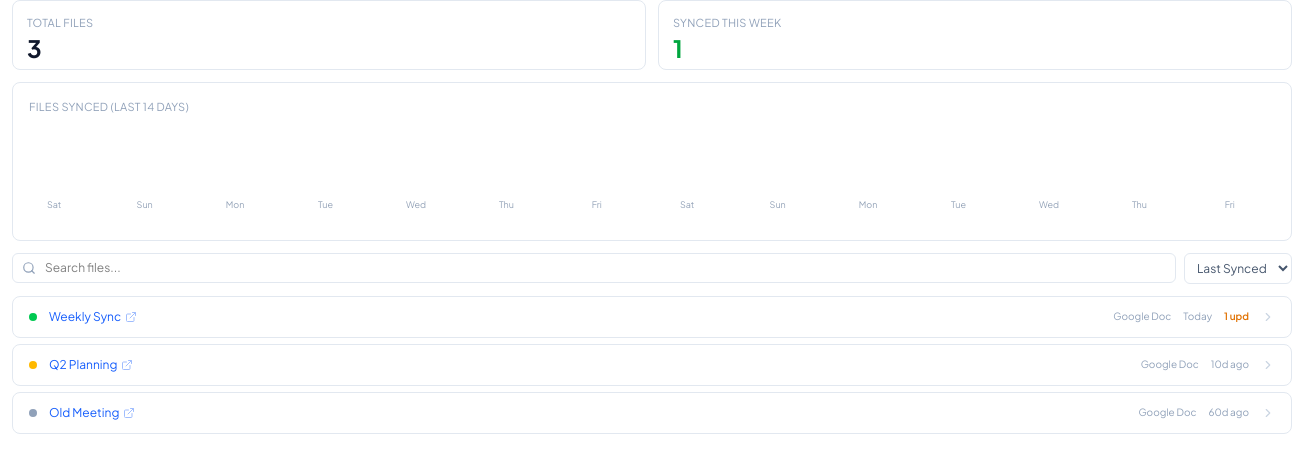
Test: FileExplorer › filters files by search
Type "weekly" into the field with placeholder "Search files...". click: (594, 268)
box: [12,253,1176,283]
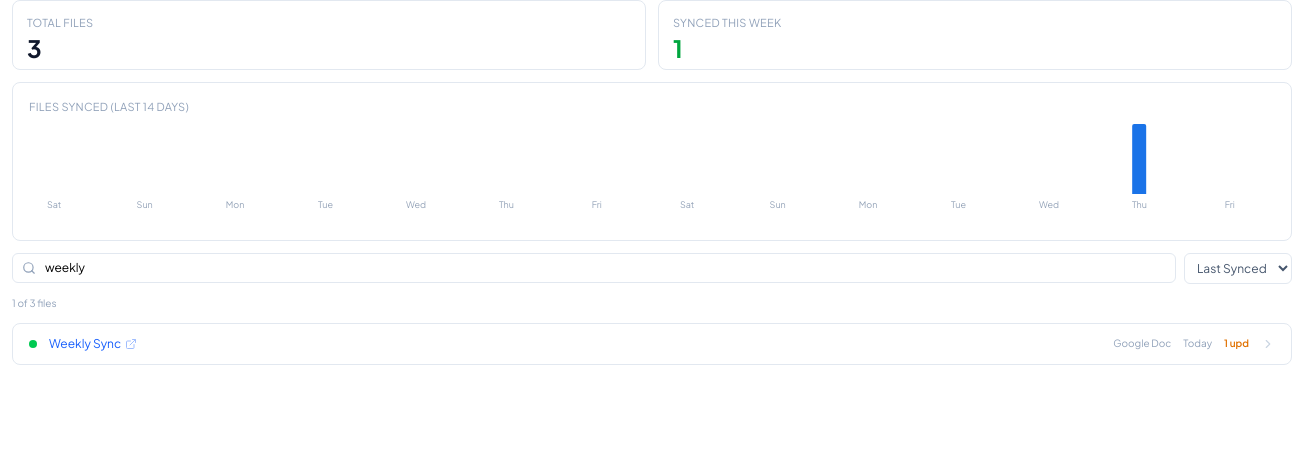
Expected: the link "Weekly Sync" is shown, [49,336,137,350]
Expected: the link "Q2 Planning" is gone
Expected: the link "Old Meeting" is gone
